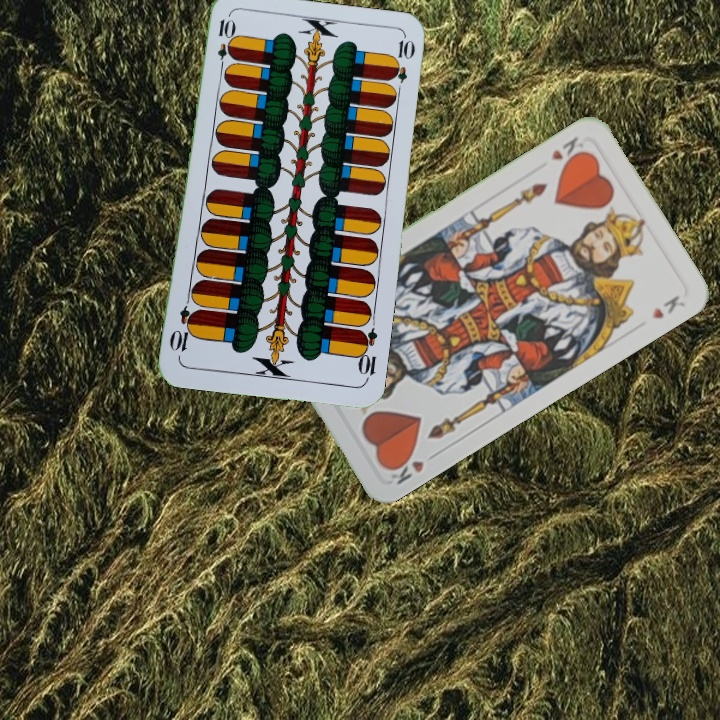E10: (353, 325, 380, 384), (214, 15, 234, 74)
HK: (382, 448, 441, 488), (546, 132, 589, 169)
